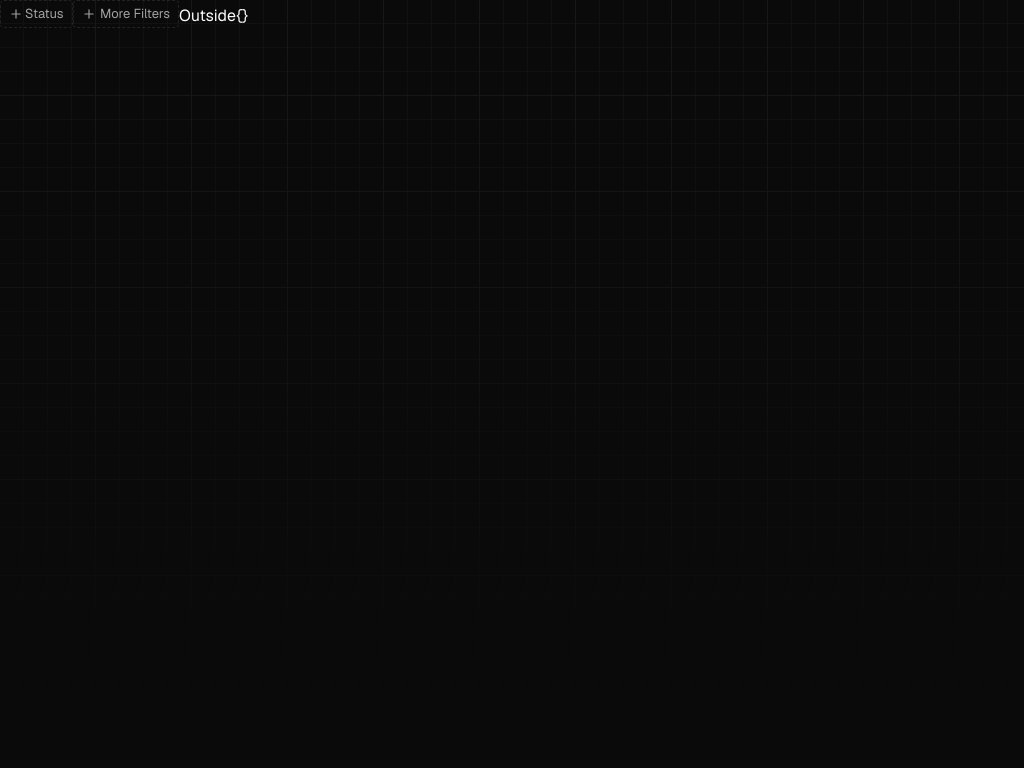
Test case: More Filters menu (SPEC §7) › shows 'No matches' when nothing matches
Click the button "More Filters": [126, 14] box [73,0,179,28]
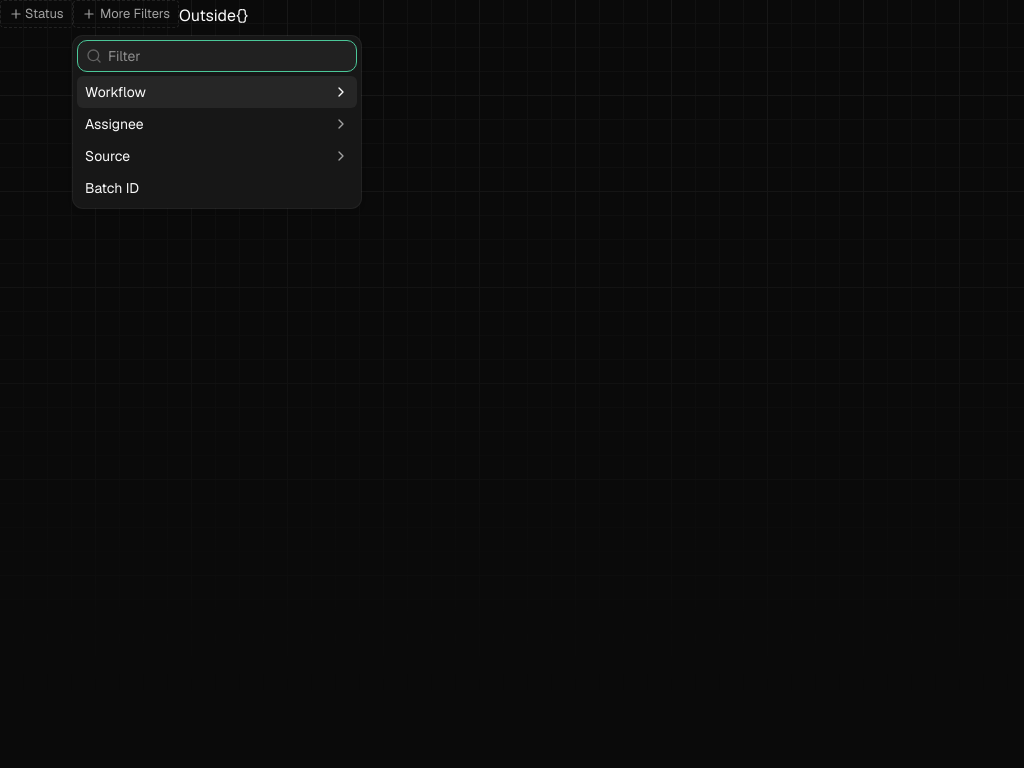
Type keys "zzz"
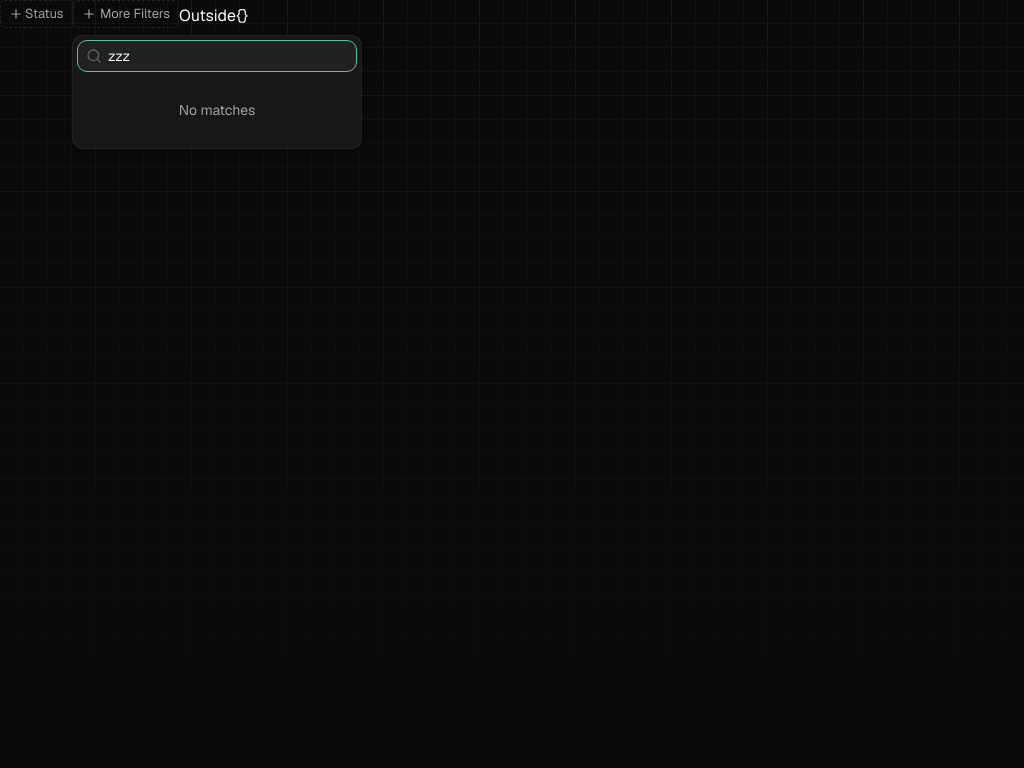
Check: the text "No matches" is shown, box [179,101,255,119]
